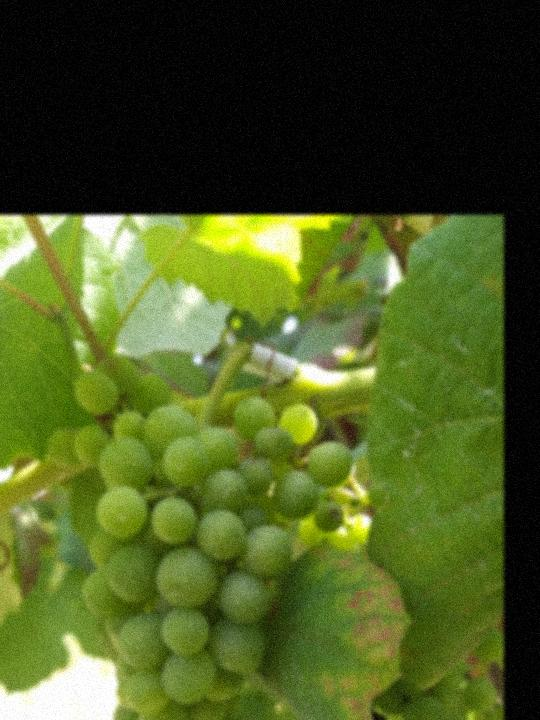grape: (46, 353, 361, 720)
